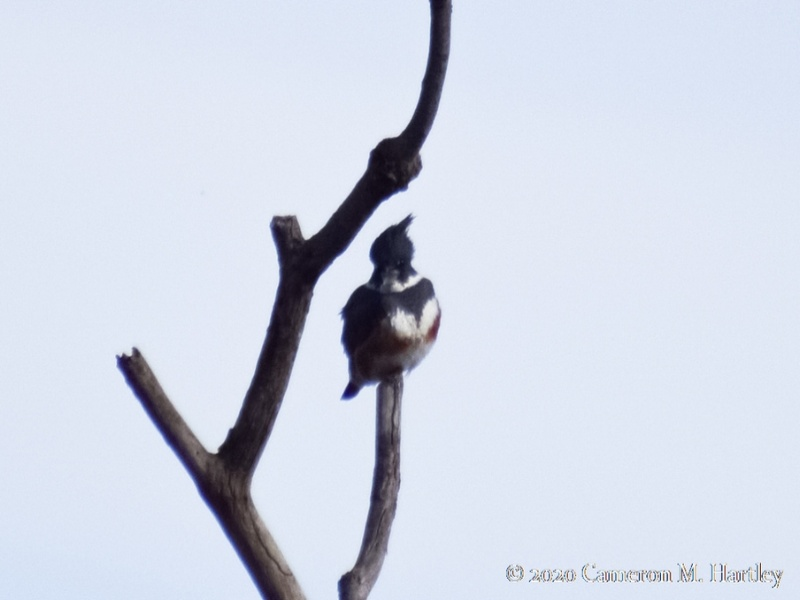kingfisher: (333, 212, 453, 402)
